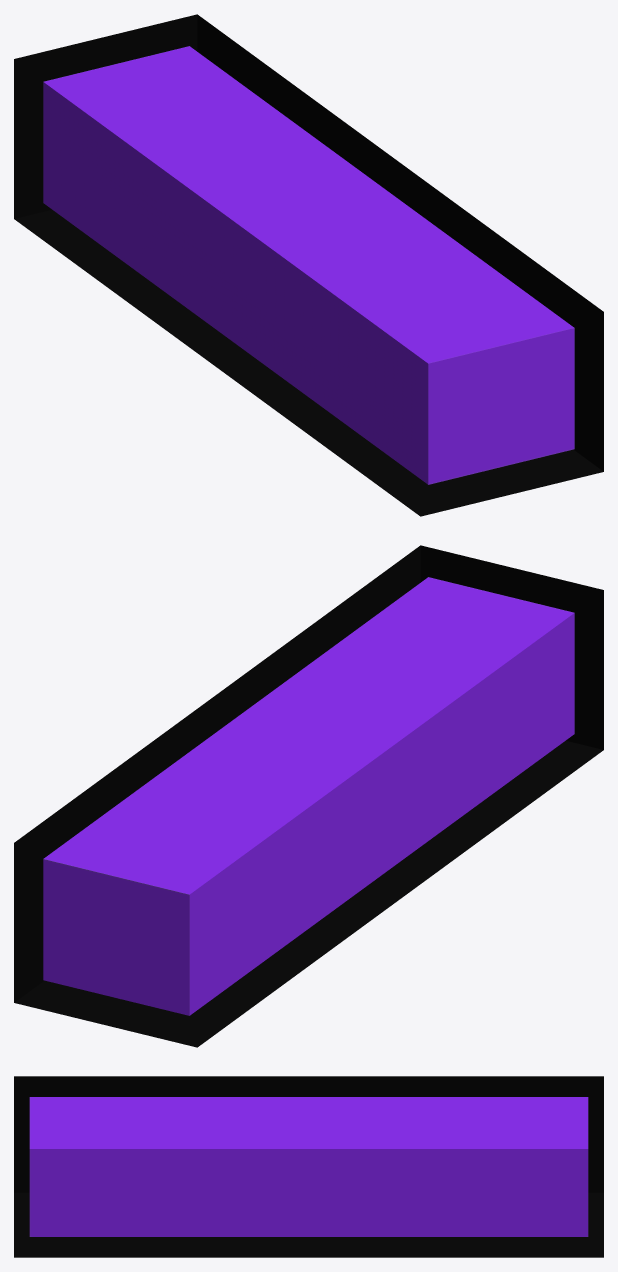
Rendered from bullet alien.fbx.
3 views of the same model, one above another, from view 1: azimuth 30°, elevation 25°; view 2: azimuth 150°, elevation 25°; view 3: azimuth 270°, elevation 25° (orthographic). The views are drawn at different scales.
Visible parts, largest first — view 1: Alien Bullet; view 2: Alien Bullet; view 3: Alien Bullet.
Part boxes in pixels (x1,y1,x2,y2): Alien Bullet: [14, 14, 603, 516]; Alien Bullet: [14, 545, 603, 1047]; Alien Bullet: [14, 1076, 603, 1257].
Bounding box in the file's own units: 17.16 × 14.3 × 65.87.
